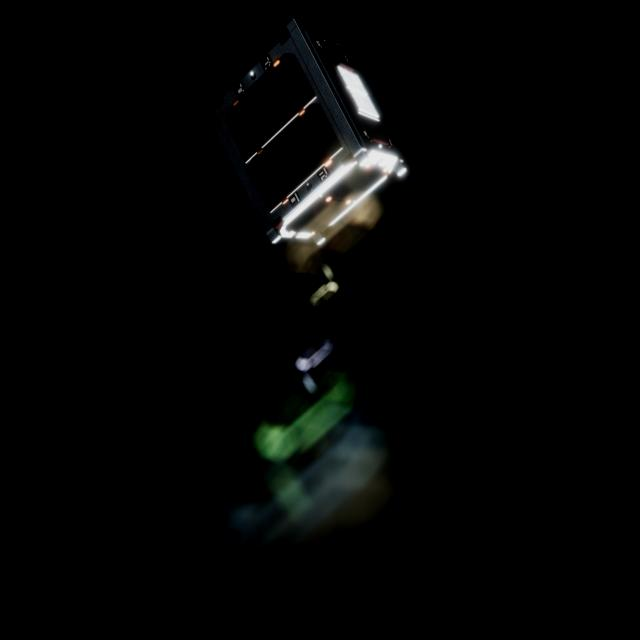satellite: (205, 16, 411, 266)
